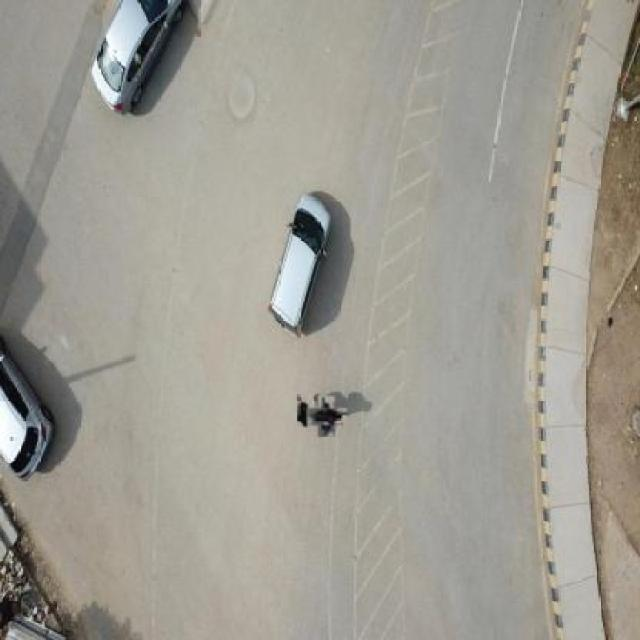Person: (312, 402, 342, 432), (298, 394, 314, 428)
